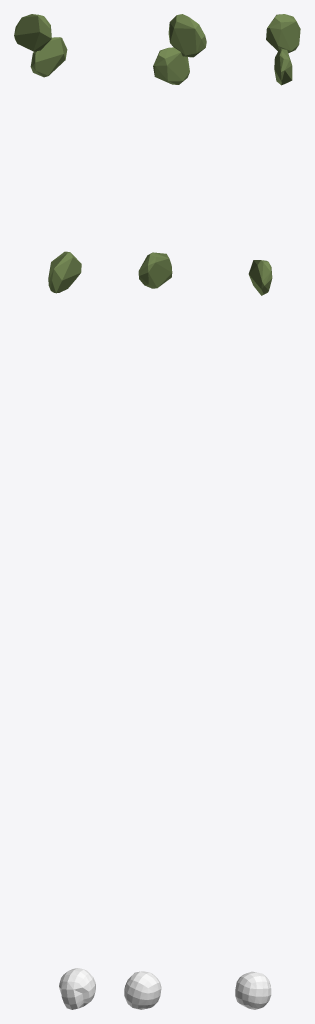
3 views of the same model, side by side, from view 1: azimuth 30°, elevation 25°; view 2: azimuth 210°, elevation 25°; view 3: azimuth 270°, elevation 25° (orthographic).
Parts seen in each view (by area): view 1: Head154_white_0, Box678_green3_0, Box670_green3_0, Box677_green3_0; view 2: Box678_green3_0, Head154_white_0, Box677_green3_0, Box670_green3_0; view 3: Head154_white_0, Box678_green3_0, Box670_green3_0, Box677_green3_0.
Boxes of the visible parts, box(x1,y1,x2,y2) form: Head154_white_0: box(59, 968, 95, 1009); Box678_green3_0: box(14, 14, 51, 51); Box670_green3_0: box(48, 251, 81, 293); Box677_green3_0: box(30, 37, 67, 77); Box678_green3_0: box(168, 14, 206, 57); Head154_white_0: box(124, 971, 161, 1009); Box677_green3_0: box(153, 47, 189, 84); Box670_green3_0: box(138, 252, 172, 288); Head154_white_0: box(235, 971, 271, 1009); Box678_green3_0: box(266, 14, 300, 53); Box670_green3_0: box(248, 260, 272, 295); Box677_green3_0: box(274, 48, 292, 85).
Size of the model in its own units: 113 by 1837 by 111.
